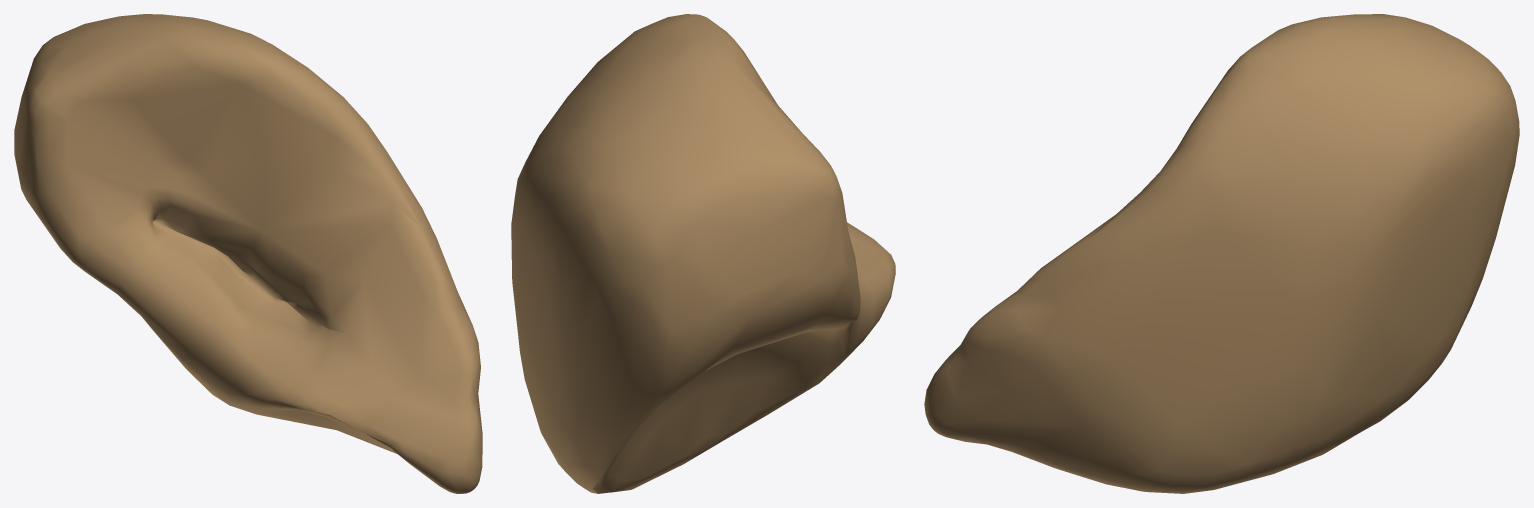
File: lymphatic.glb
3 views of the same model, side by side, from view 1: azimuth 30°, elevation 25°; view 2: azimuth 150°, elevation 25°; view 3: azimuth 270°, elevation 25° (orthographic). The views are drawn at different scales.
Parts seen in each view (by area): view 1: spleen; view 2: spleen; view 3: spleen.
Part boxes in pixels (x1,y1,x2,y2): spleen: (14, 14, 482, 493); spleen: (511, 14, 895, 493); spleen: (924, 14, 1519, 493).
Size of the model in its own units: 0.1165 by 0.1405 by 0.1901.
